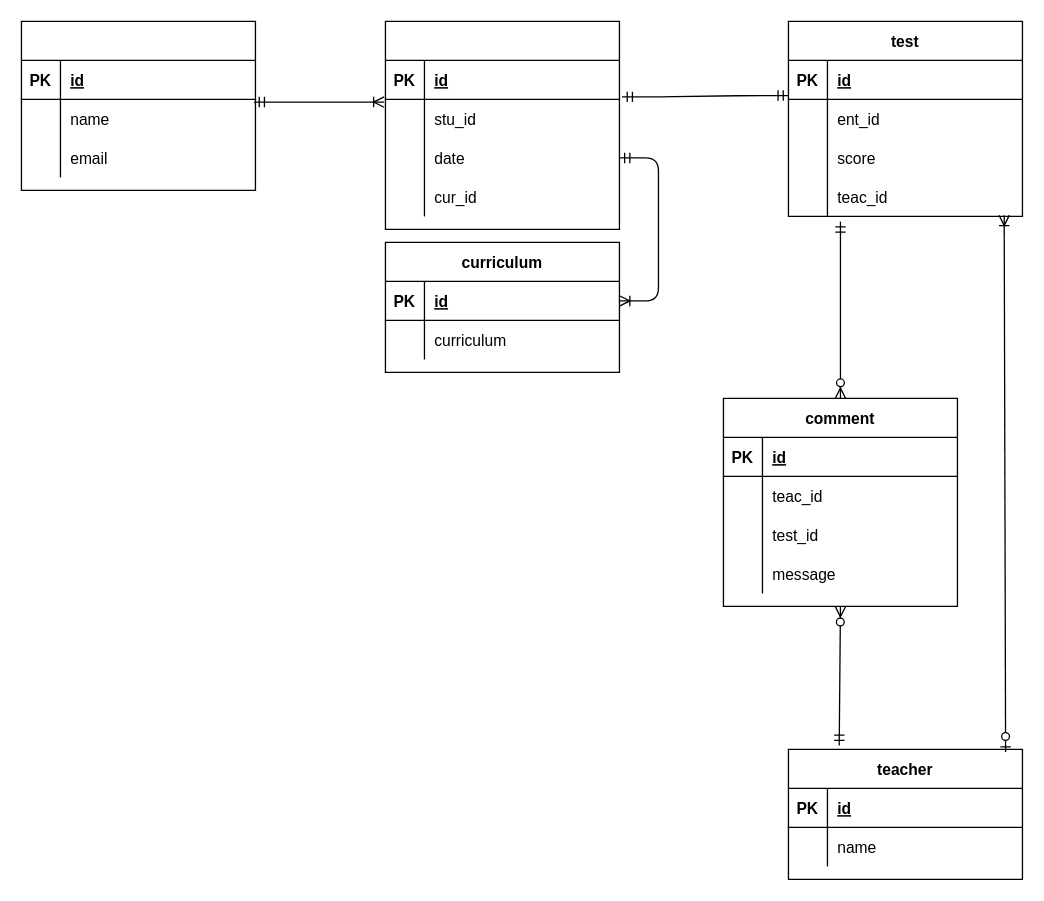
Image size: 1044x901. Some labels were removed from this diagram. Here are the shapes that lost their labels. From the top down, the box of each, then its label:
(20, 20, 255, 190): student
(384, 20, 619, 229): entry
